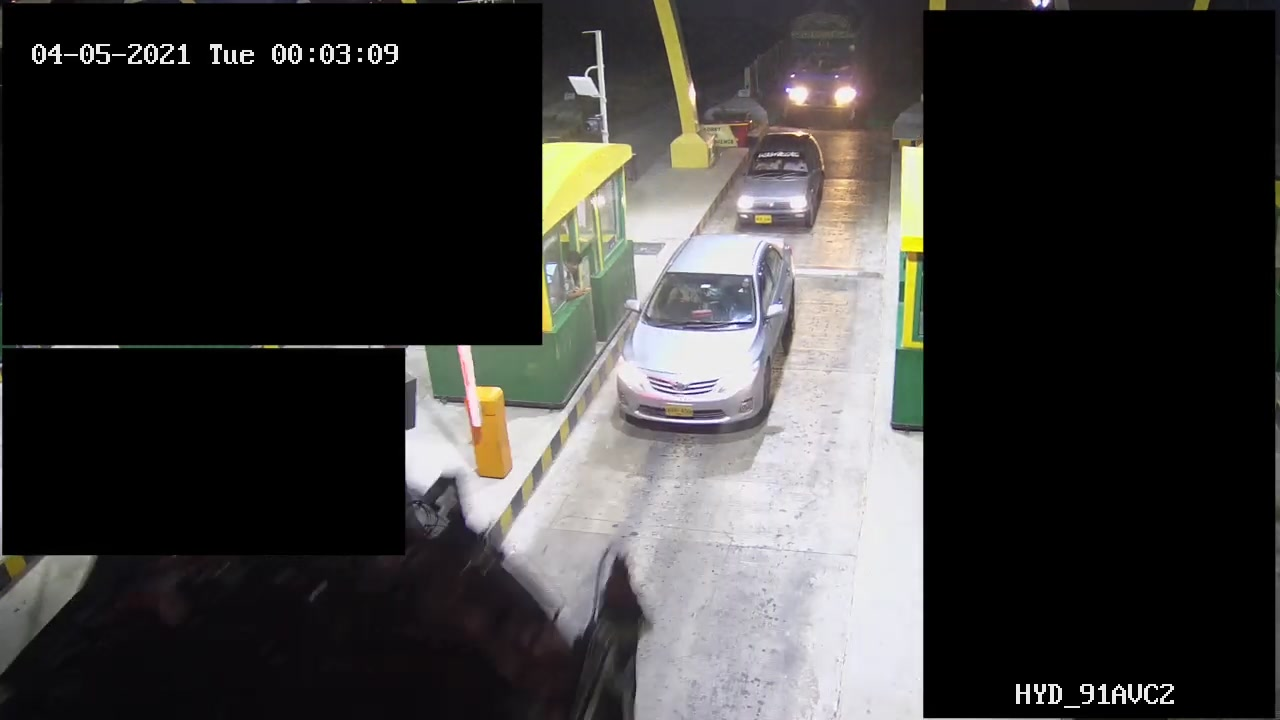F1: (607, 229, 804, 442), (731, 126, 832, 232)
